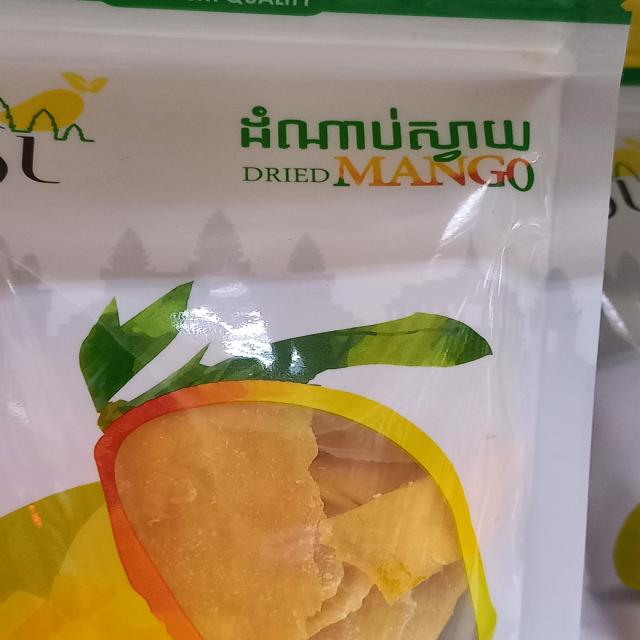Yolov11kh: (229, 98, 551, 166)
